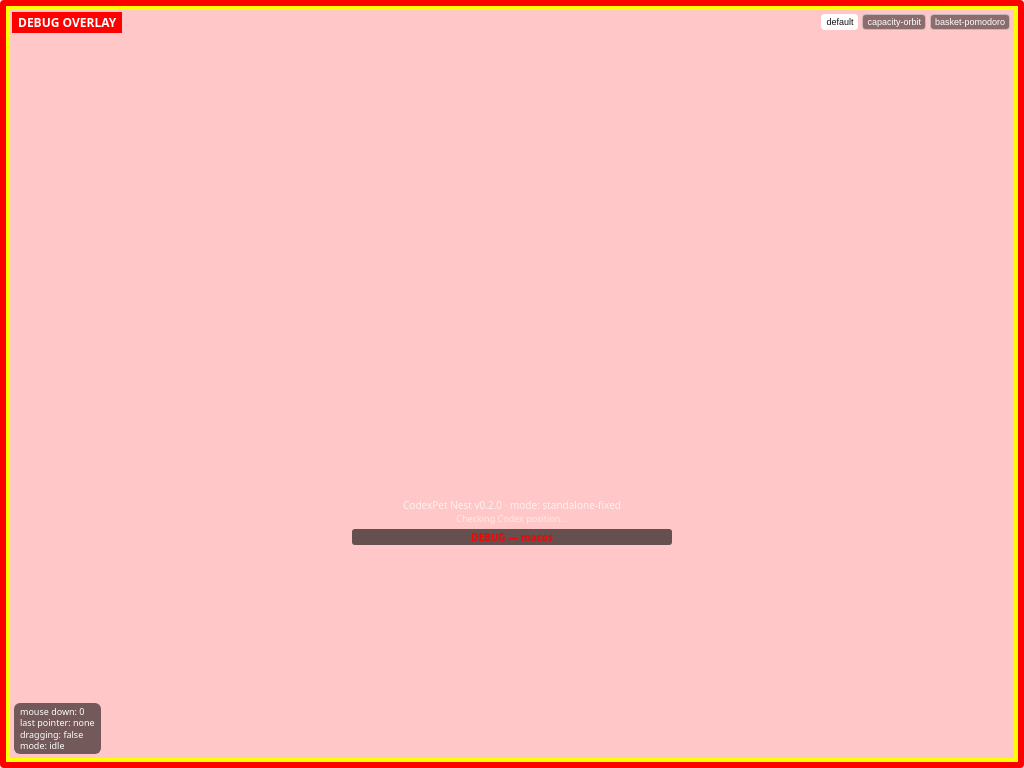
Scenario: OverlayApp › should receive pointer events on drag bar and start manual fallback drag
Press the mouse on the element with test id "overlay-drag-region" at (469, 24), box [98,14,840,34]
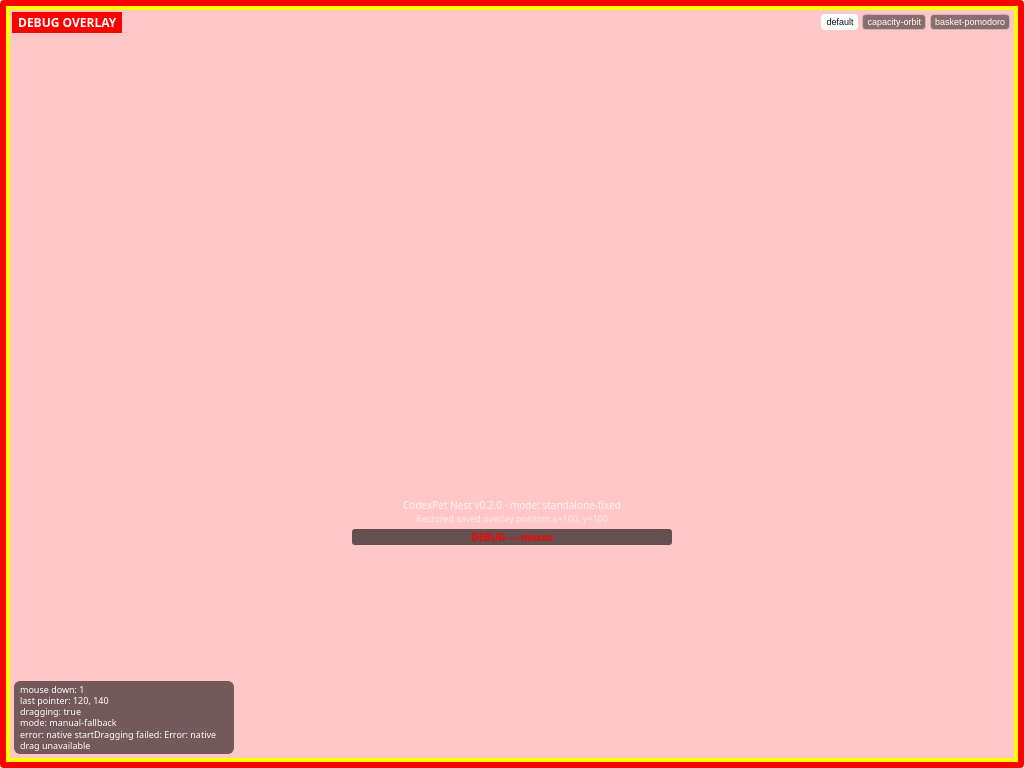
Expected: the text "mouse down: 1" is shown, [20,682,84,696]
Expected: the text "mode: manual-fallback" is shown, [20,716,117,729]
